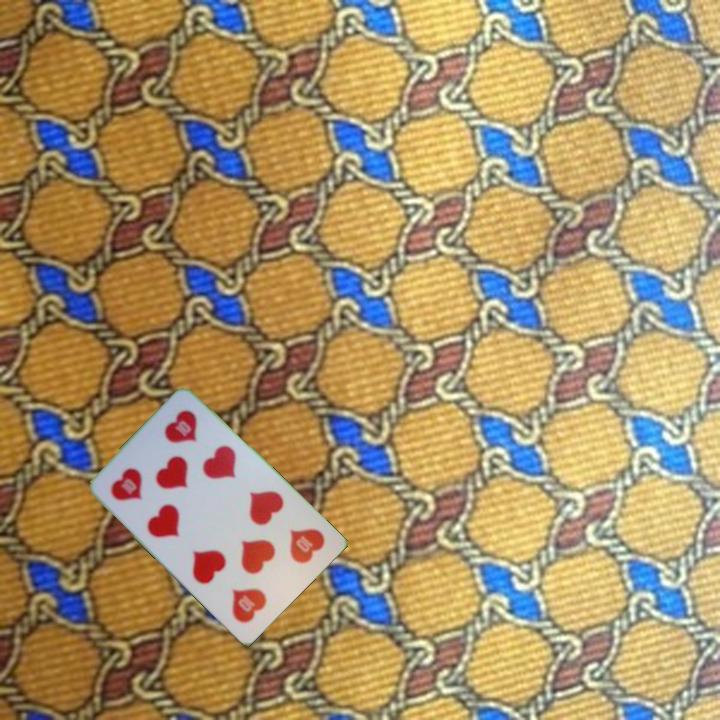h_10.png: (249, 503, 335, 589), (97, 440, 182, 526)
